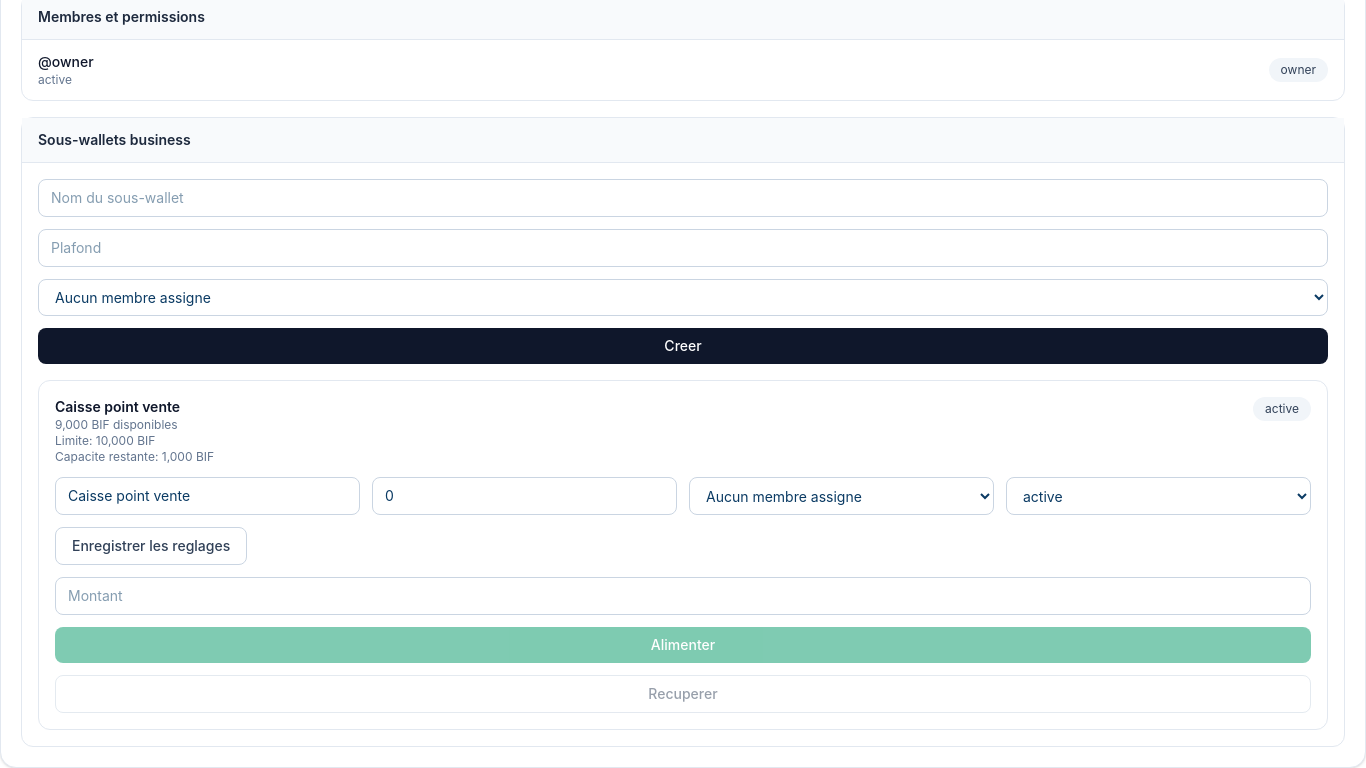
Test: BusinessAccountsPage › prevents funding a sub-wallet above remaining capacity
(page scrolled)
Type "2000" into the number field named "Montant action sous wallet Caisse point vente".
click(683, 596); type("2000")  # box 55,577 -> 1311,615
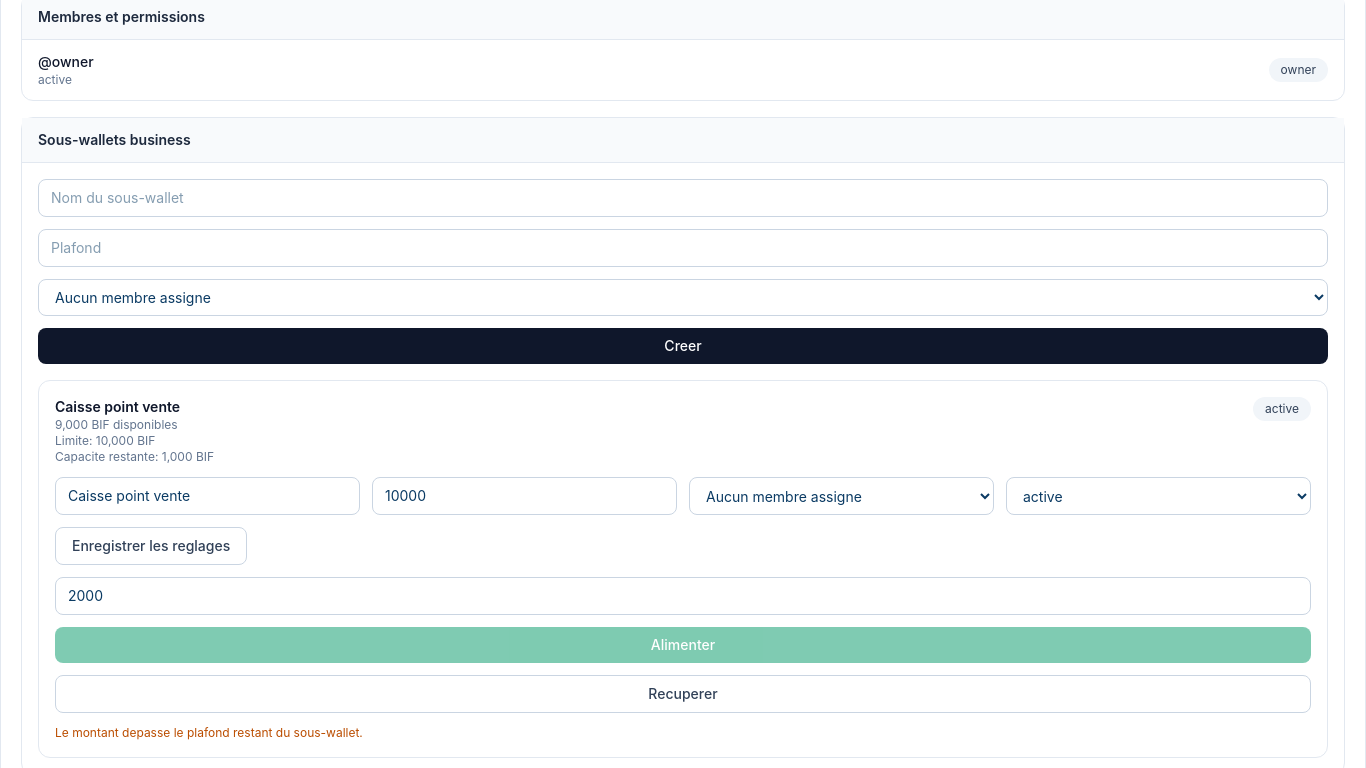
Expected: the button "Alimenter" is disabled, 55,627 -> 1311,663
Expected: the text "Le montant depasse le plafond restant du sous-wallet." is shown, 55,725 -> 363,740
